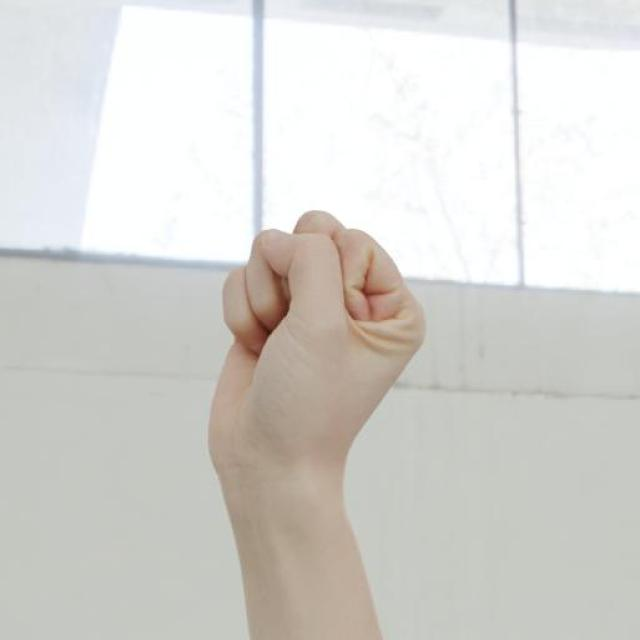S: (202, 206, 434, 477)
